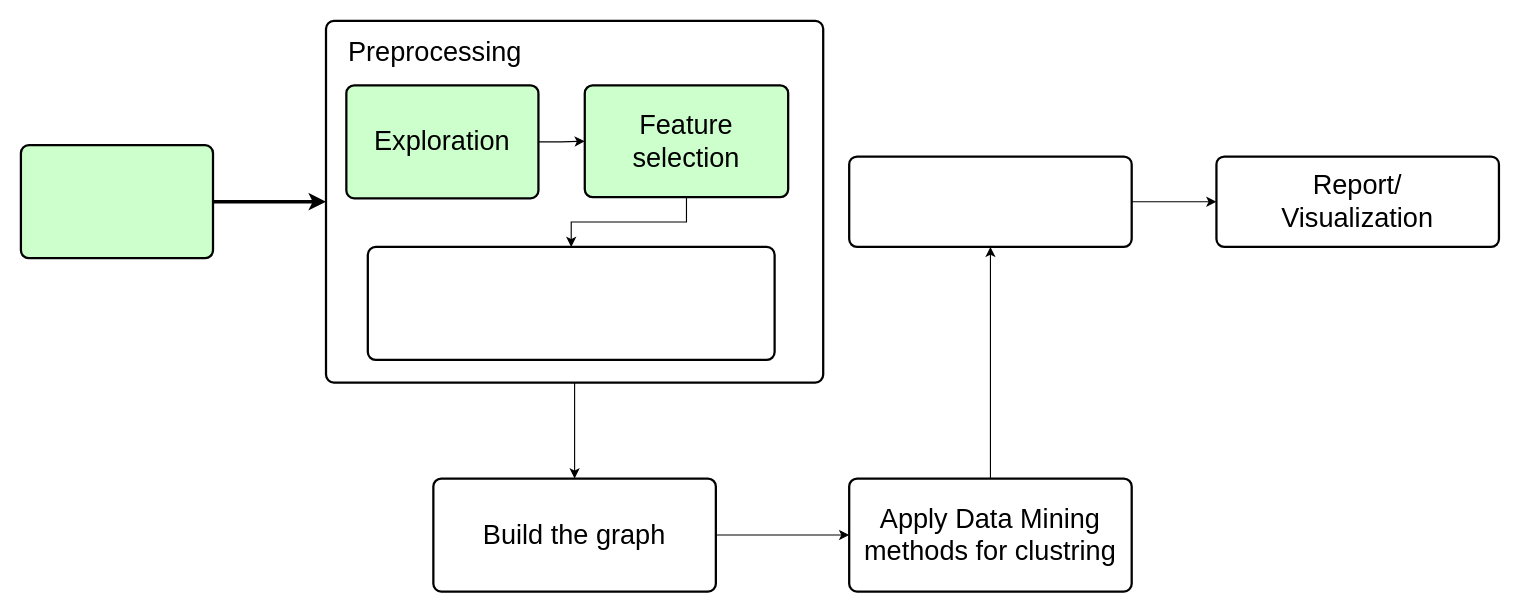
Some shapes in this 1519 by 611 pixel diagram are drawn without their labels. The shapes that lost their labels are listed below. From the top down, each one's centre as x and y in pixels, then its label:
the point at 116,201: Load data
the point at 989,201: Measure/ Verification
the point at 570,302: Remove outliers/Rescale the data/PCA
